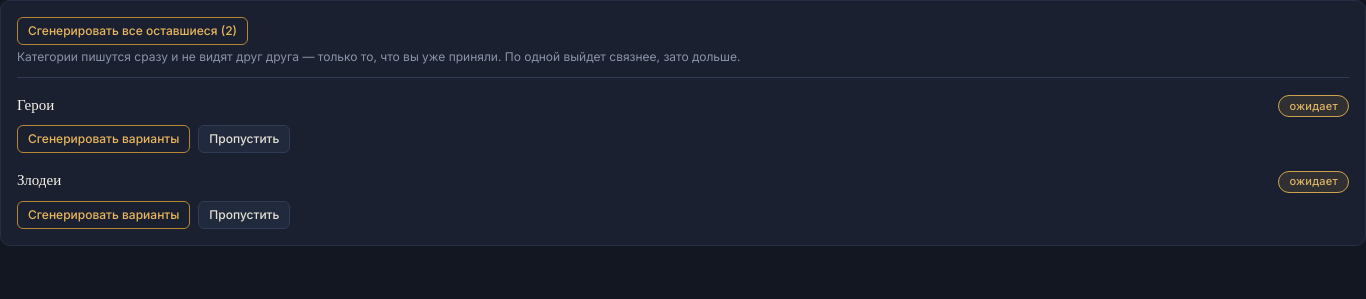
Test: EntityStageRunner — пакет при конфликте записи (F18 ревью 2026-09-22) › ошибка записи пачки видна, а не пропадает
The image size is (1366, 299).
Click the button "Сгенерировать все оставшиеся (2)".
click(132, 31)  # box [17,17,248,45]
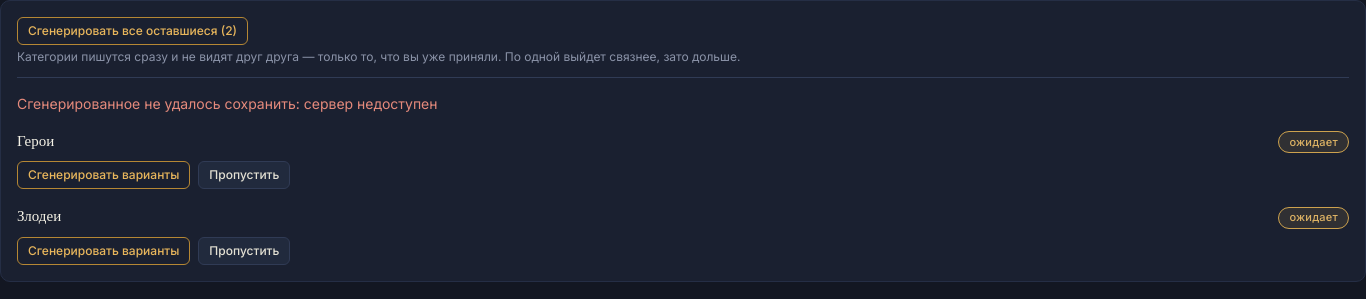
Expected: the message shows "сервер недоступен", [304,95,438,112]
